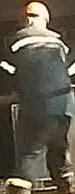helmet: (23, 2, 50, 23)
vest: (0, 26, 74, 119)
